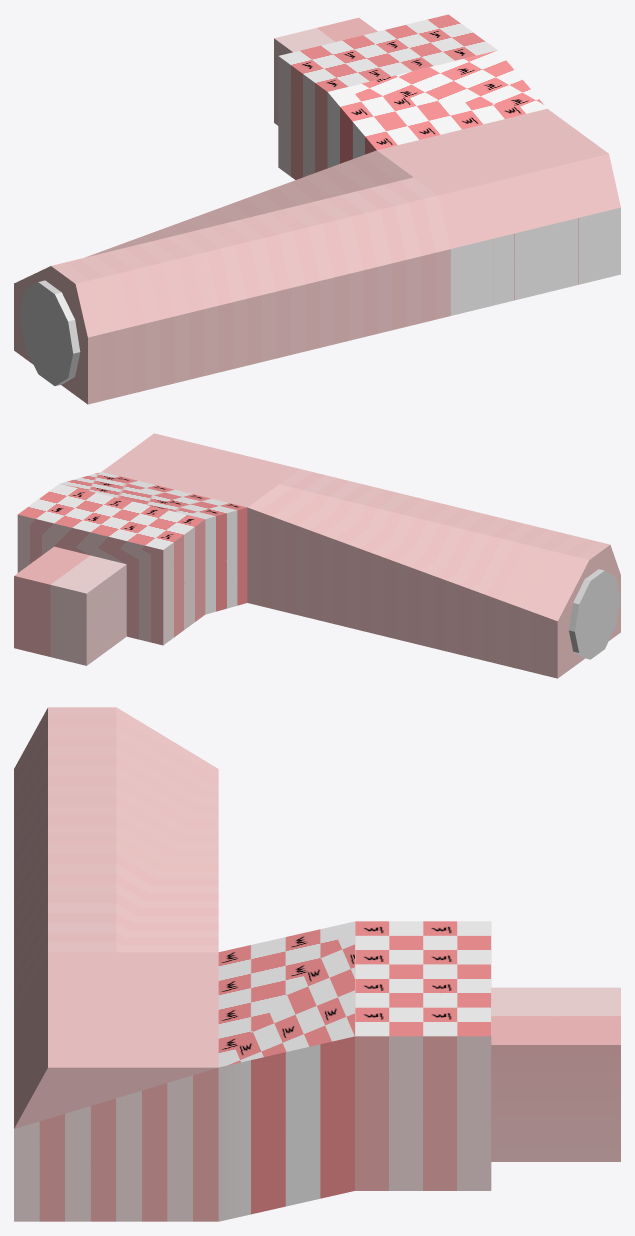
File: Sewer_1.fbx
3 renders of one model, top to bottom at view 1: azimuth 30°, elevation 25°; view 2: azimuth 150°, elevation 25°; view 3: azimuth 270°, elevation 25°, orthographic. The views are drawn at different scales.
Visible parts, largest first — view 1: Plane, Cylinder; view 2: Plane, Cylinder; view 3: Plane.
Part boxes in pixels (x1,y1,x2,y2): Plane: (14, 14, 620, 404); Cylinder: (19, 280, 80, 385); Plane: (14, 433, 620, 678); Cylinder: (569, 569, 620, 659); Plane: (14, 707, 620, 1221).
Size of the model in its own units: 2534 by 600 by 1780.
